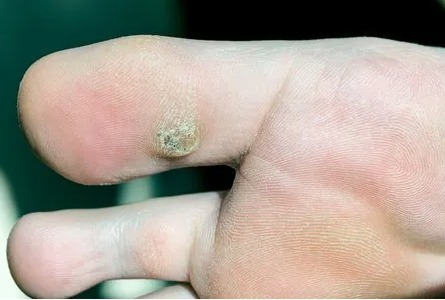Warts: (150, 107, 206, 162)
